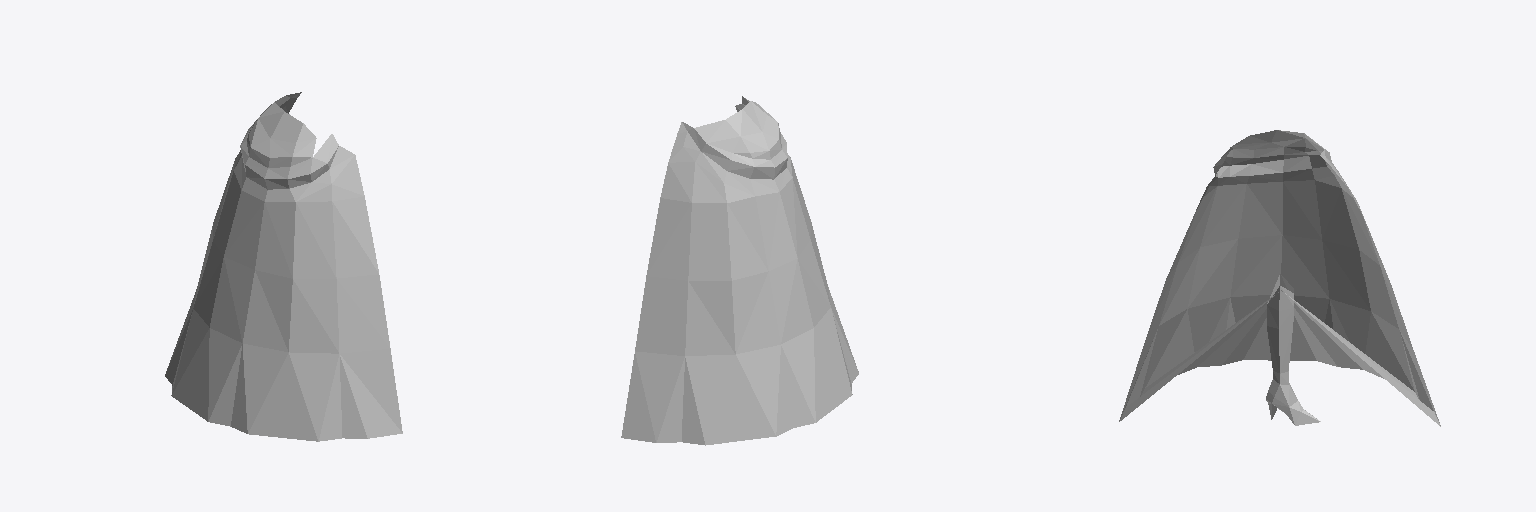
Rendered from PeachPI.obj.
3 views of the same model, side by side, from view 1: azimuth 30°, elevation 25°; view 2: azimuth 150°, elevation 25°; view 3: azimuth 270°, elevation 25° (orthographic).
Visible parts, largest first — view 1: Skirt2, Skirt1, Skirt3, Hip, PiernaIzq_PeachBodyMat00; view 2: Skirt2, Skirt1, Skirt3, Hip; view 3: Skirt2, Skirt3, Skirt1, Hip, LegL, FootL.
Boxes of the visible parts, box(x1,y1,x2,y2) form: Skirt2: box(166, 226, 402, 441); Skirt1: box(213, 161, 378, 278); Skirt3: box(165, 310, 402, 441); Hip: box(234, 92, 364, 201); PiernaIzq_PeachBodyMat00: box(290, 169, 331, 201); Skirt2: box(635, 222, 858, 444); Skirt1: box(646, 157, 810, 280); Skirt3: box(621, 308, 858, 445); Hip: box(660, 96, 792, 202); Skirt2: box(1119, 235, 1432, 420); Skirt3: box(1119, 290, 1440, 426); Skirt1: box(1166, 180, 1389, 280); Hip: box(1197, 130, 1361, 212); LegL: box(1267, 274, 1295, 404); FootL: box(1266, 385, 1320, 425).
Size of the model in its own units: 52.29 by 105 by 110.